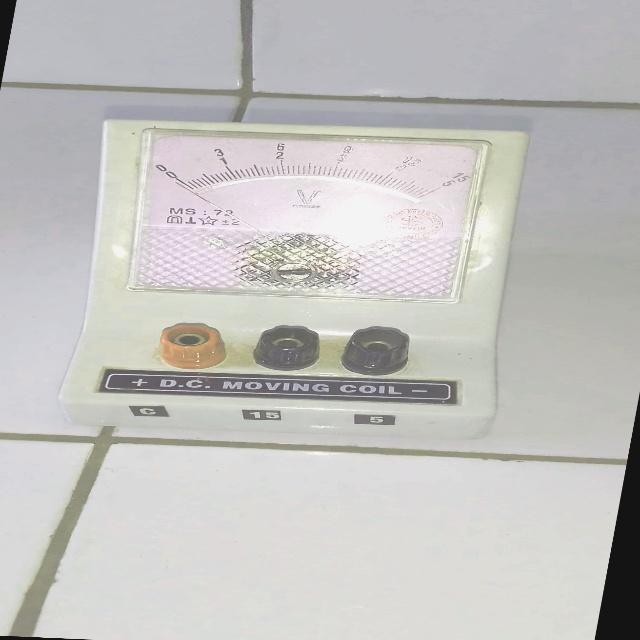Analog Voltmeter: (3, 96, 586, 462)
